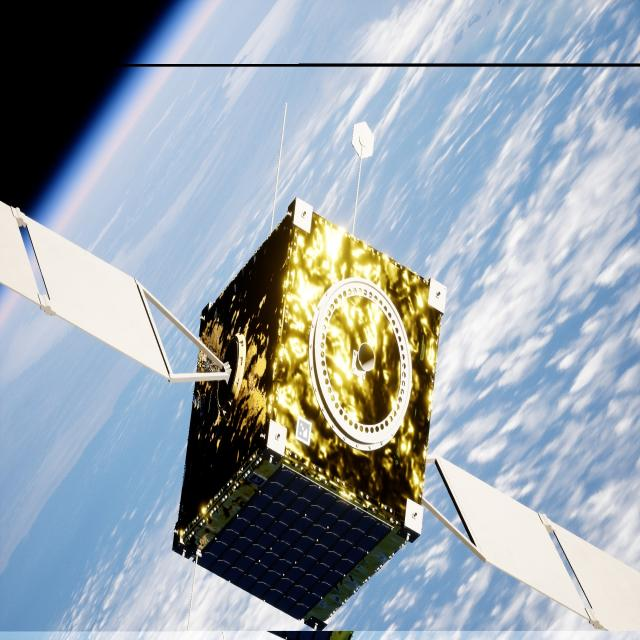satellite: (0, 200, 640, 637)
